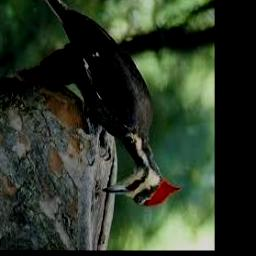Woodpecker: (40, 0, 181, 206)
